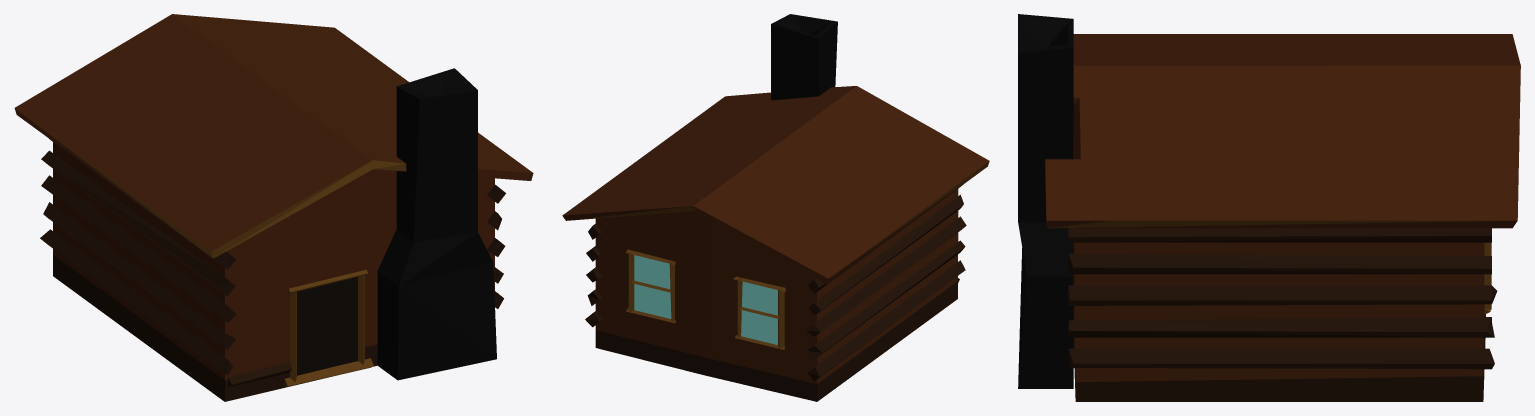
The model's file is House_3.fbx.
3 renders of one model, left to right at view 1: azimuth 30°, elevation 25°; view 2: azimuth 150°, elevation 25°; view 3: azimuth 270°, elevation 25°, orthographic. The views are drawn at different scales.
Visible parts, largest first — view 1: House_3; view 2: House_3; view 3: House_3.
Part boxes in pixels (<box>): House_3: <box>14,14,533,401</box>; House_3: <box>562,14,989,401</box>; House_3: <box>1018,14,1520,401</box>.
Size of the model in its own units: 698 by 576 by 795.
